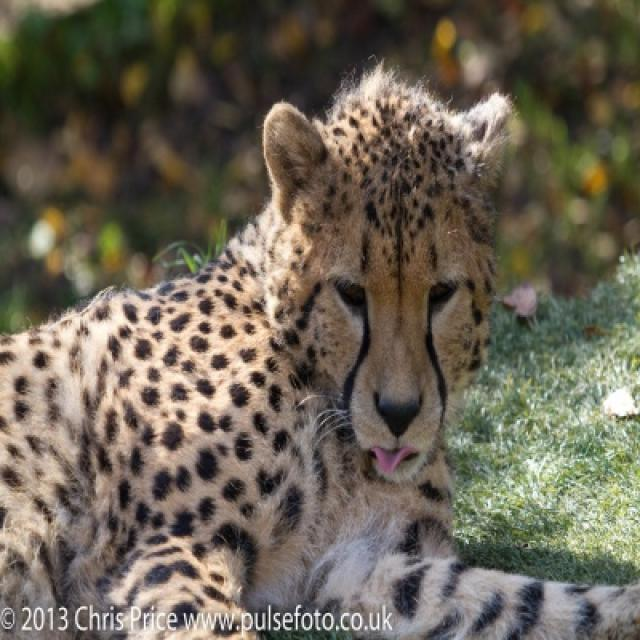Cheetah: (0, 58, 638, 638)
